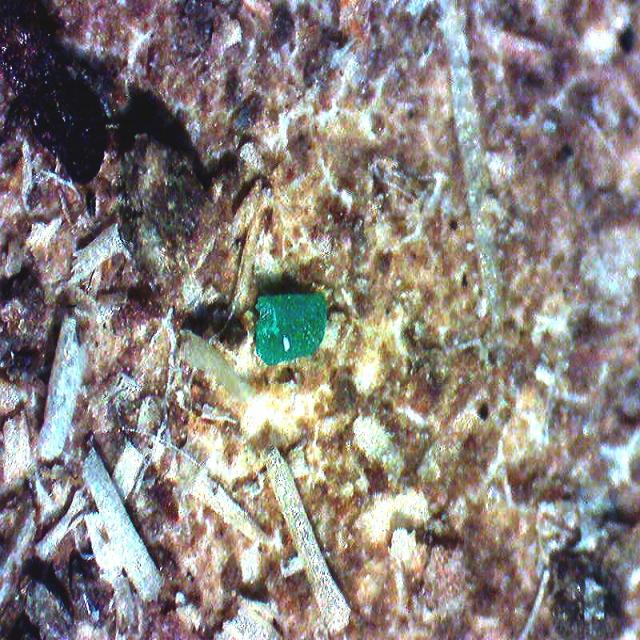microplastic: (256, 293, 326, 366)
